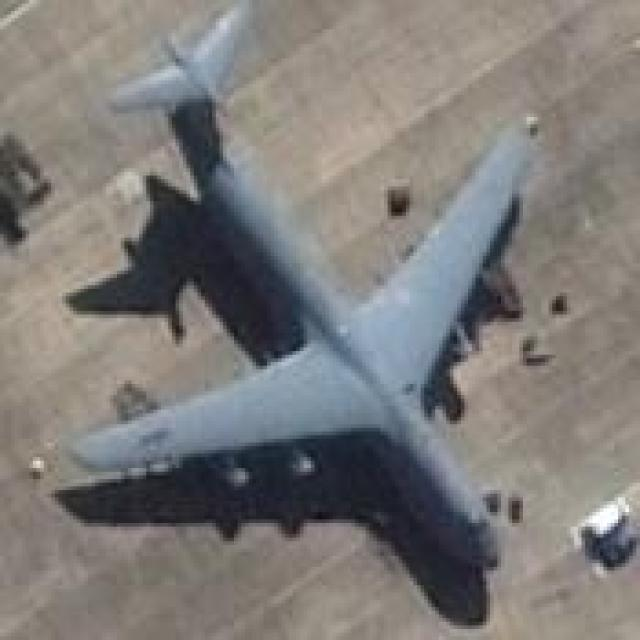C-5_TopDown: (47, 0, 545, 629)
